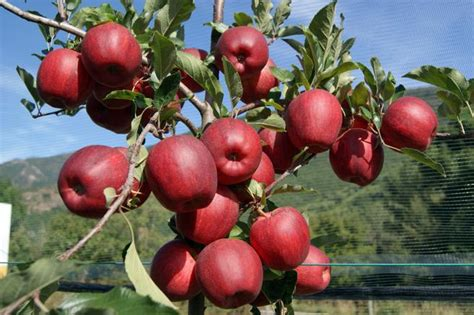apple: (144, 133, 220, 213), (56, 144, 130, 219), (194, 235, 263, 309), (244, 204, 312, 270), (78, 18, 142, 85), (203, 117, 263, 186), (377, 93, 441, 155), (284, 89, 343, 153), (324, 128, 385, 189), (33, 45, 88, 109), (214, 21, 270, 82)
